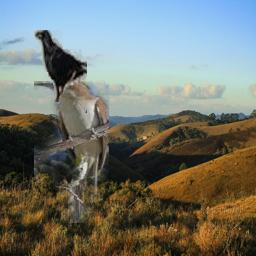Crow: (34, 30, 87, 113)
Cuckoo: (34, 81, 109, 223)
